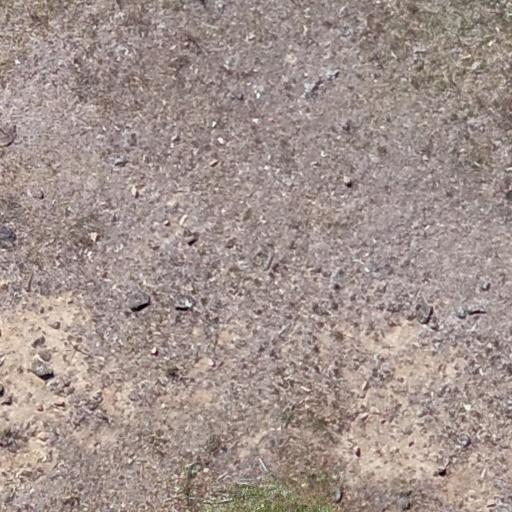stone: (303, 68, 341, 99), (124, 290, 152, 310), (456, 304, 486, 320), (30, 360, 54, 379), (166, 295, 196, 310), (464, 301, 490, 313), (419, 321, 439, 335), (420, 306, 434, 324), (240, 207, 254, 223), (125, 131, 138, 147), (3, 488, 16, 504), (412, 44, 428, 57), (333, 486, 344, 504), (0, 392, 14, 406), (332, 329, 346, 343), (478, 278, 492, 292), (31, 335, 46, 348), (326, 68, 340, 81), (113, 154, 128, 166), (185, 234, 199, 246), (225, 236, 237, 250), (340, 119, 352, 133), (455, 305, 467, 319), (230, 90, 243, 102), (342, 175, 354, 187), (460, 436, 472, 448), (48, 320, 60, 330), (437, 467, 447, 477), (462, 402, 472, 412), (332, 281, 342, 291), (36, 189, 45, 200), (208, 158, 219, 167), (216, 136, 226, 145), (54, 400, 65, 408), (110, 213, 118, 224), (35, 404, 45, 412), (250, 117, 260, 125), (355, 446, 361, 458), (487, 39, 495, 47), (163, 219, 171, 227), (150, 348, 158, 354)
